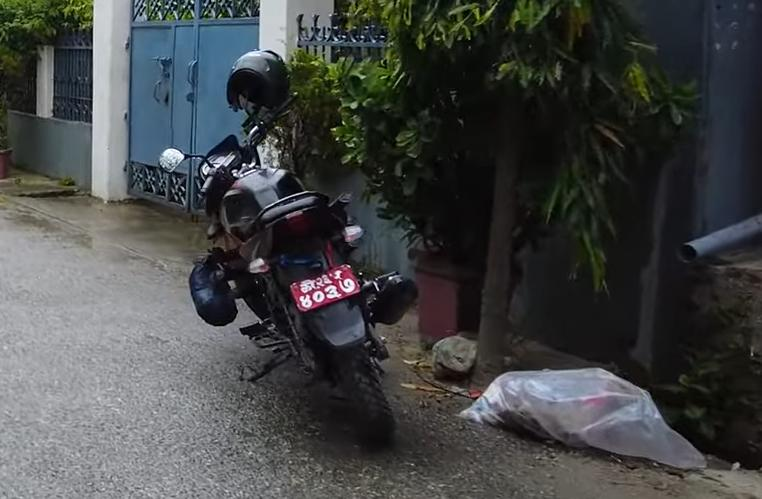bike: (160, 79, 418, 452)
